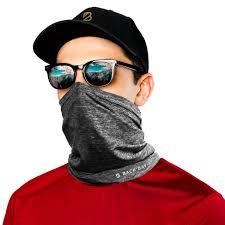cap: (31, 0, 161, 76)
scarf-kerchief: (56, 80, 165, 188)
sunglasses: (42, 59, 121, 90)
